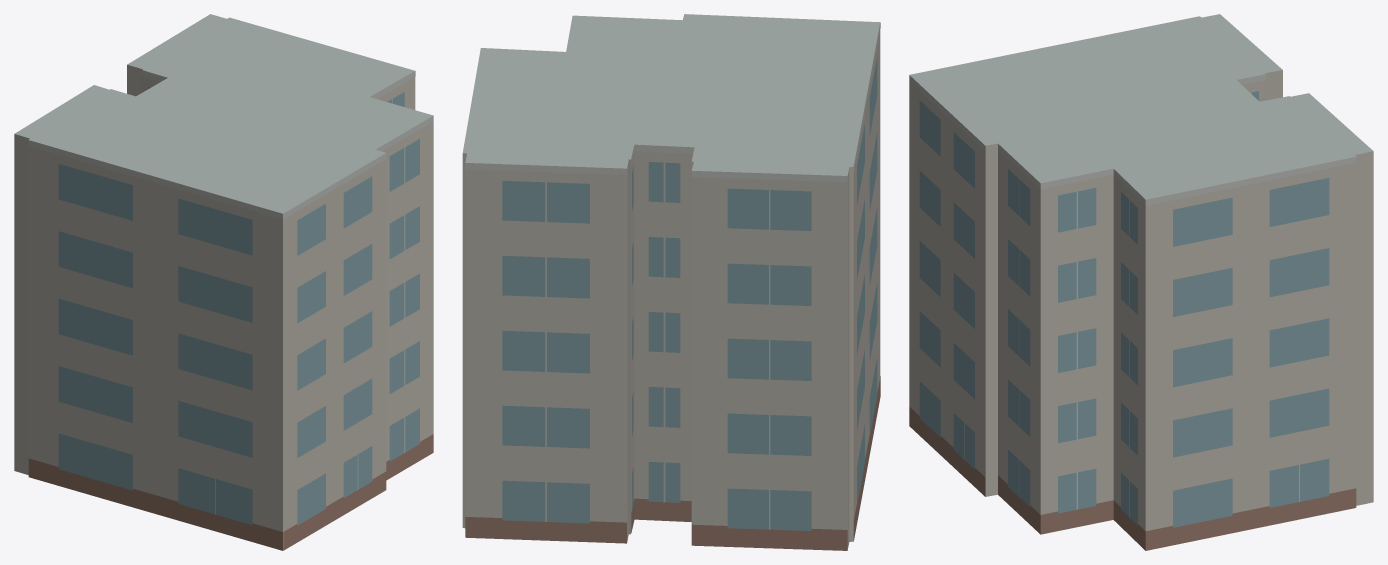
The model's file is survey-upis-32691805.glb.
3 renders of one model, left to right at view 1: azimuth 30°, elevation 25°; view 2: azimuth 150°, elevation 25°; view 3: azimuth 270°, elevation 25°, orthographic. The views are drawn at different scales.
Parts seen in each view (by area): view 1: survey-upis-32691805.tmp; view 2: survey-upis-32691805.tmp; view 3: survey-upis-32691805.tmp.
Boxes of the visible parts, bbox=[...] form: survey-upis-32691805.tmp: bbox=[14, 14, 433, 550]; survey-upis-32691805.tmp: bbox=[462, 14, 880, 550]; survey-upis-32691805.tmp: bbox=[909, 14, 1373, 550].
Size of the model in its own units: 16 by 14.1 by 16.91.
